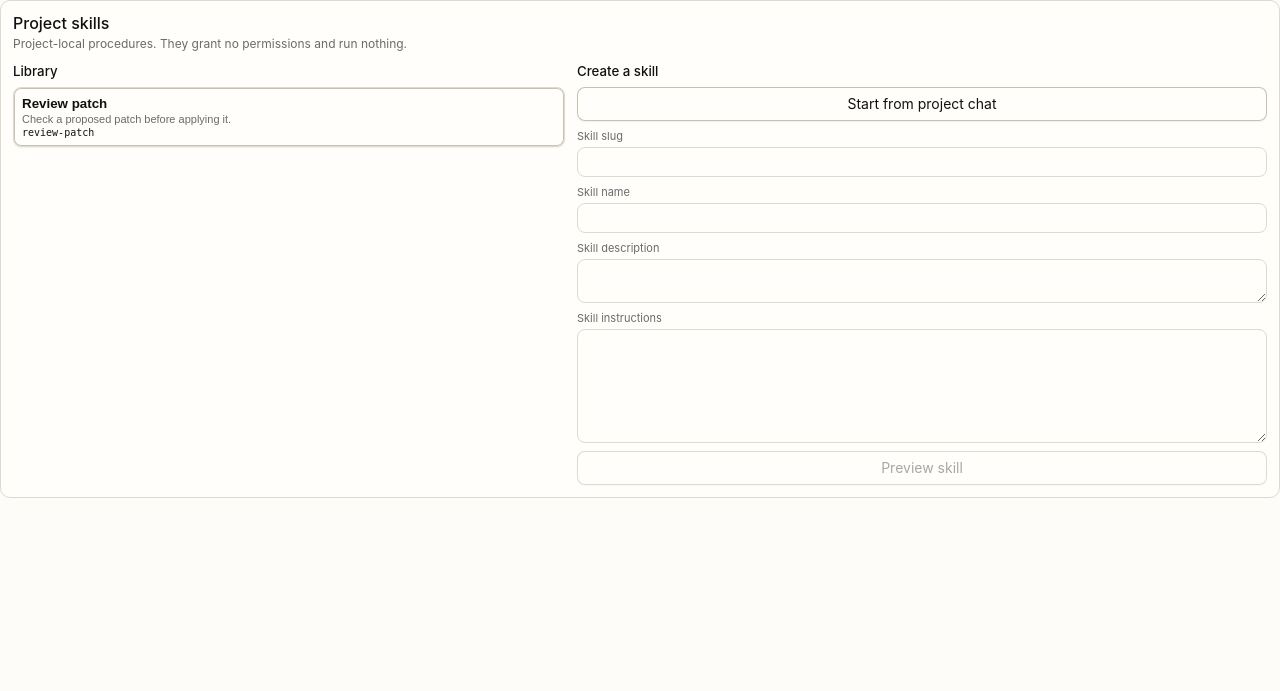
Test case: SkillsPanel › preserves the draft and exact existing file when apply reports a conflict
Expected: the button "Review patch" is shown, [13, 87, 565, 147]
Type "new-skill" into the field labelled "Skill slug" at {"x": 922, "y": 162}, box [577, 147, 1267, 177]
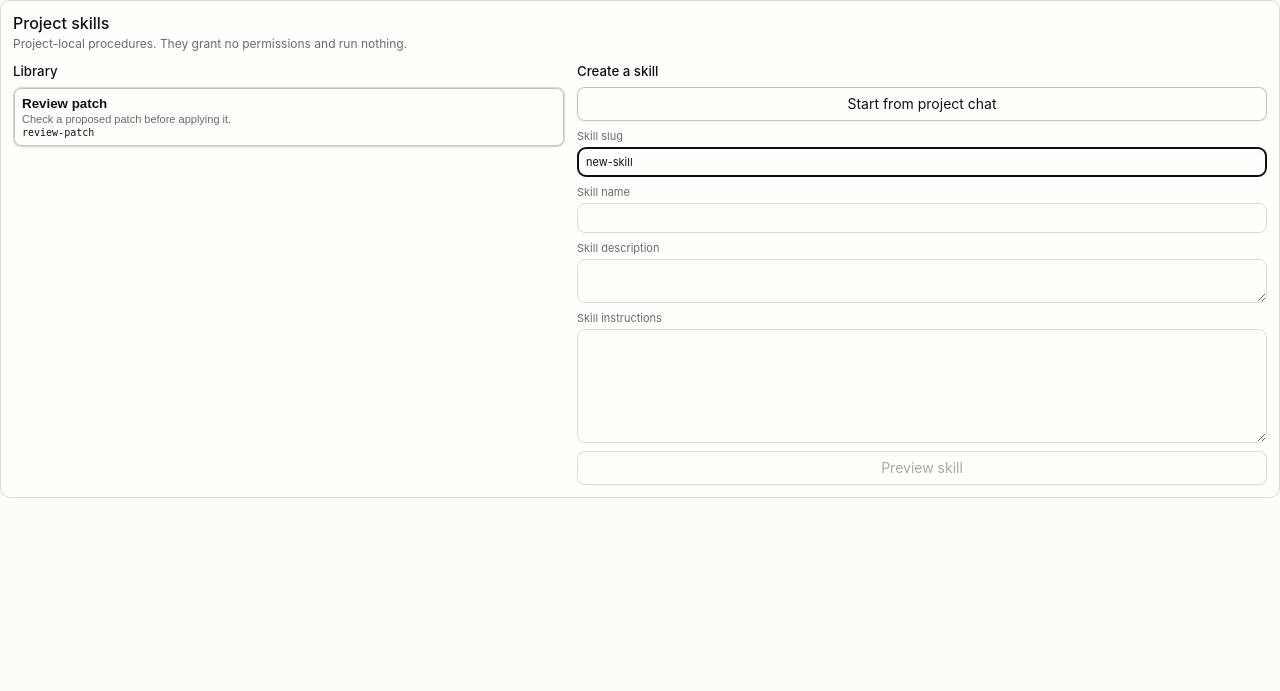
Type "New skill" into the field labelled "Skill name" at {"x": 922, "y": 218}, box [577, 203, 1267, 233]
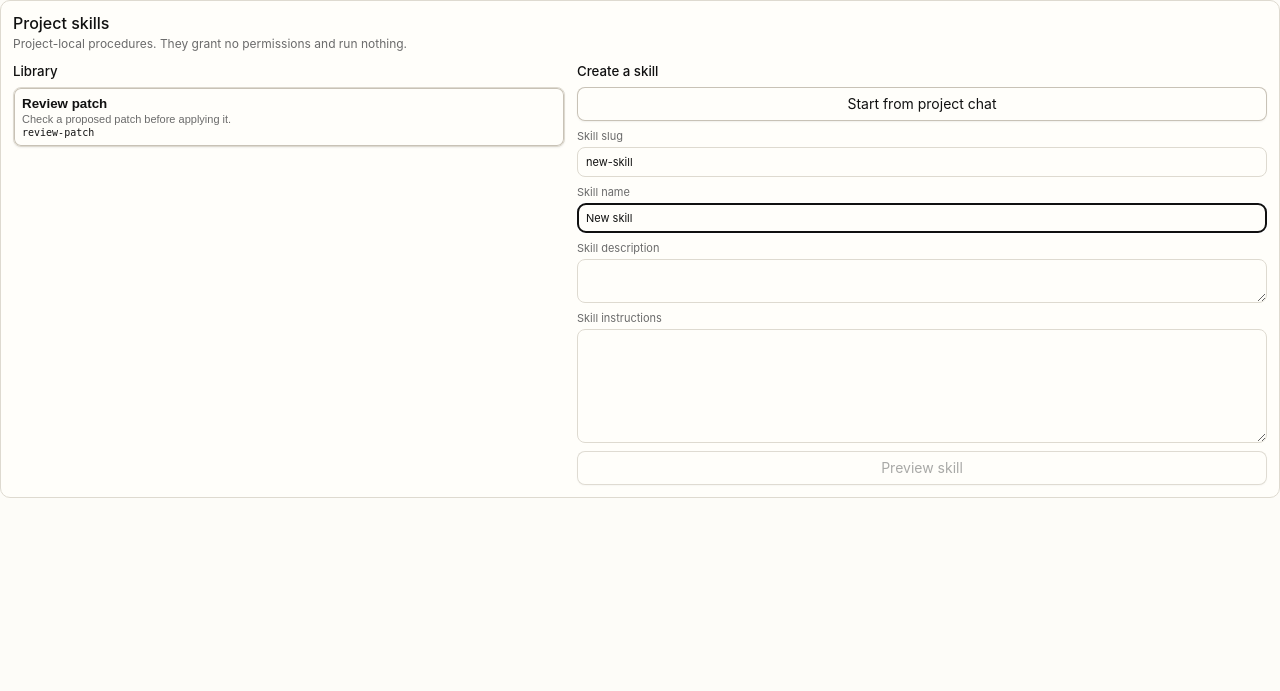
Type "A safe local procedure." into the text box labelled "Skill description" at {"x": 922, "y": 281}, box [577, 259, 1267, 303]
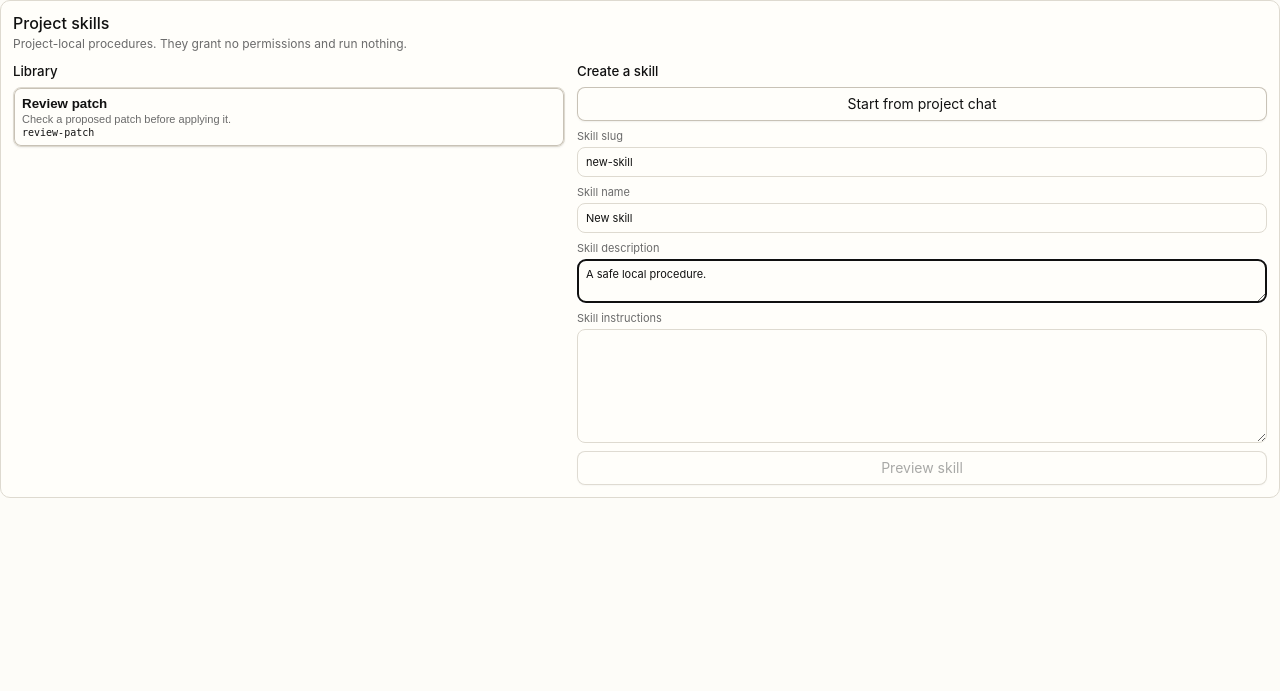
Type "Do the checked steps." into the text box labelled "Skill instructions" at {"x": 922, "y": 386}, box [577, 329, 1267, 443]
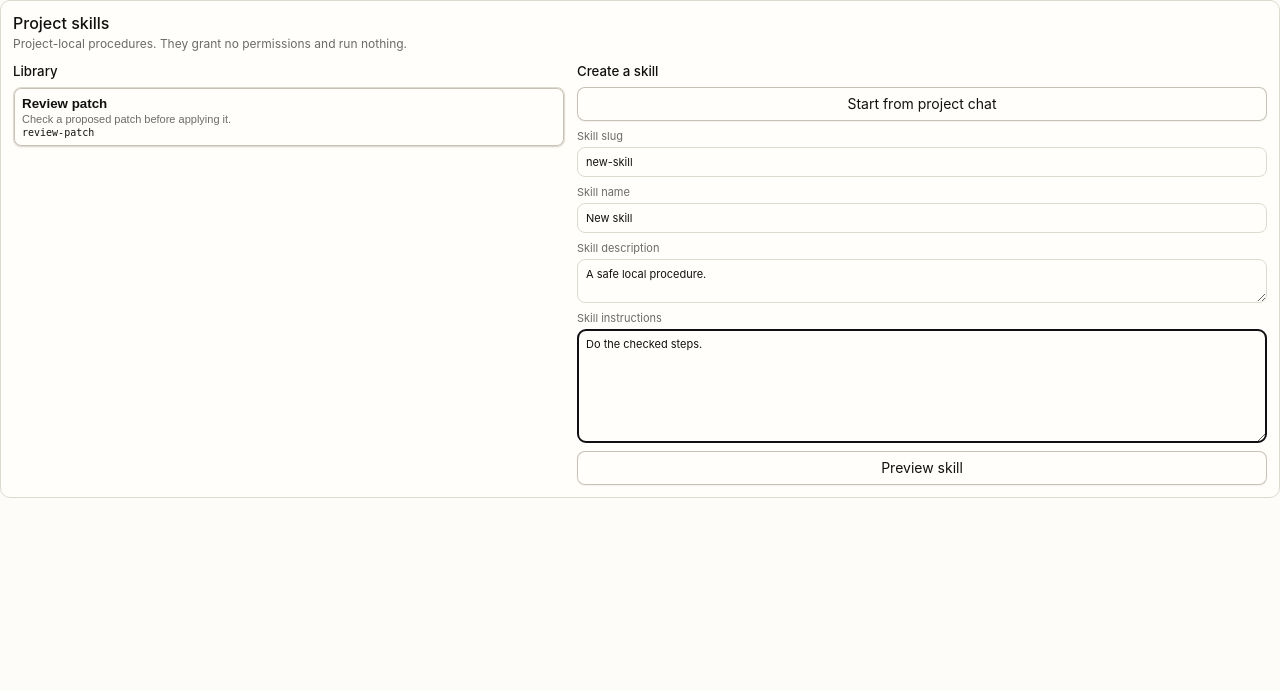
Click the button "Preview skill" at {"x": 922, "y": 468}, box [577, 451, 1267, 485]
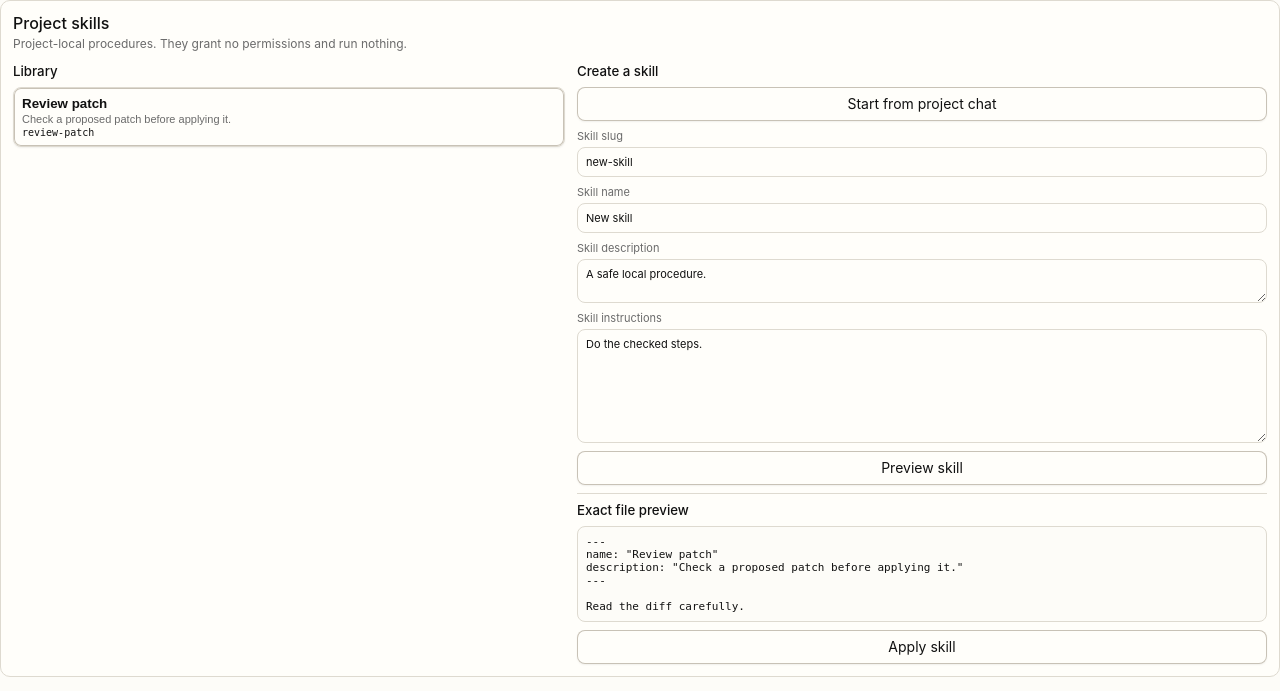
Click the button "Apply skill" at {"x": 922, "y": 647}, box [577, 630, 1267, 664]
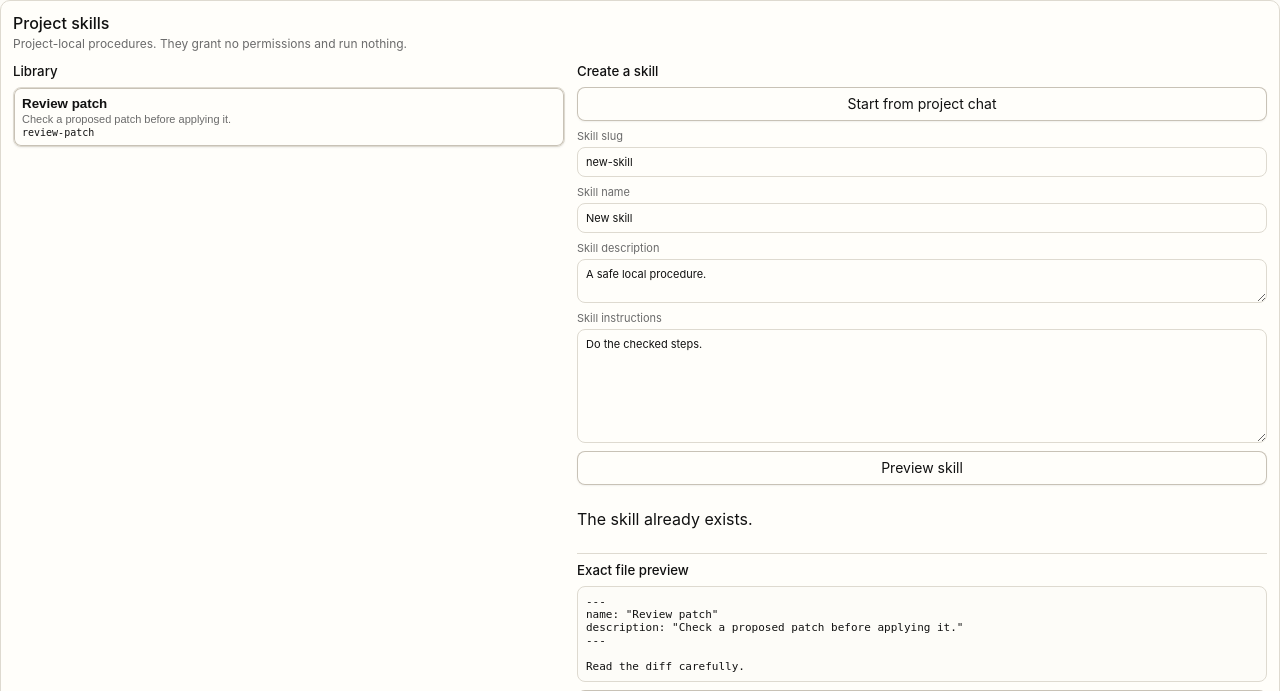
Now the message reads "The skill already exists.", box [577, 509, 753, 529]
